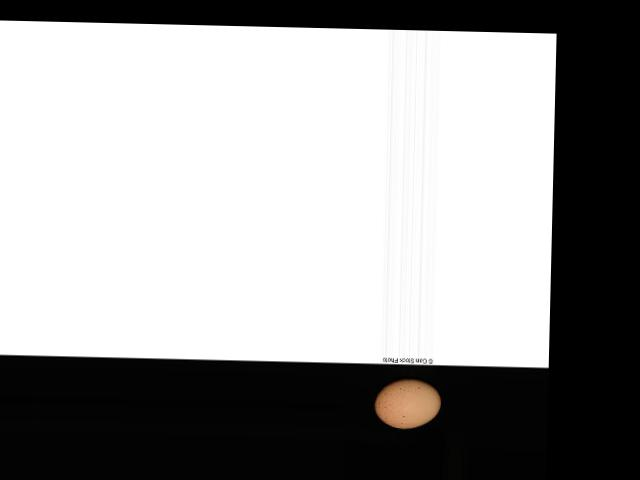egg: (374, 377, 441, 428)
